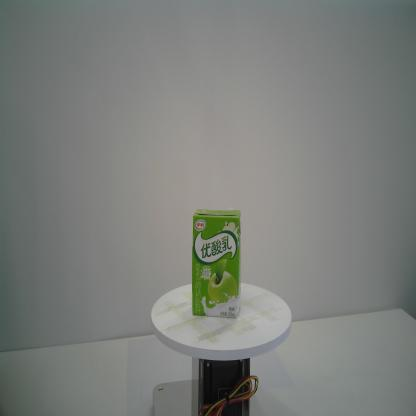Milk: (191, 208, 243, 322)
